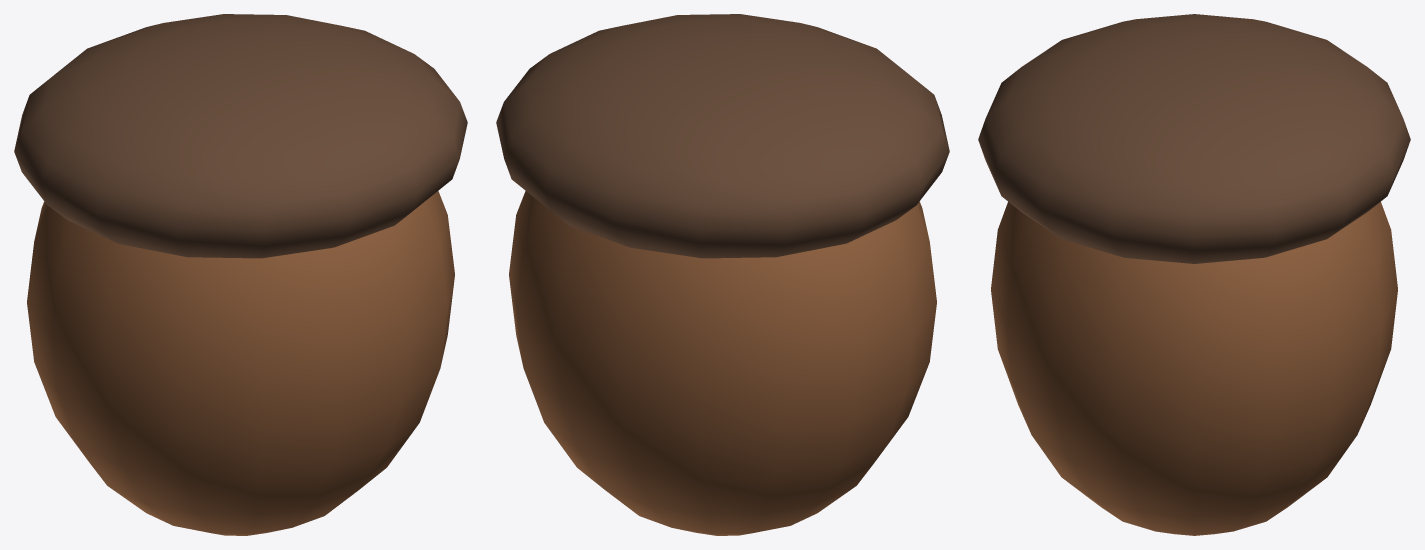
File: acorn.glb
3 views of the same model, side by side, from view 1: azimuth 30°, elevation 25°; view 2: azimuth 150°, elevation 25°; view 3: azimuth 270°, elevation 25° (orthographic).
Visible parts, largest first — view 1: Nut, Cap; view 2: Nut, Cap; view 3: Nut, Cap.
Part boxes in pixels (x1=…): Nut: x1=27, y1=191, x2=454, y2=535; Cap: x1=14, y1=14, x2=467, y2=258; Nut: x1=509, y1=191, x2=936, y2=535; Cap: x1=496, y1=14, x2=949, y2=258; Nut: x1=991, y1=201, x2=1397, y2=535; Cap: x1=978, y1=14, x2=1410, y2=263.
Bounding box in the file's own units: 0.36 × 0.4 × 0.34.
